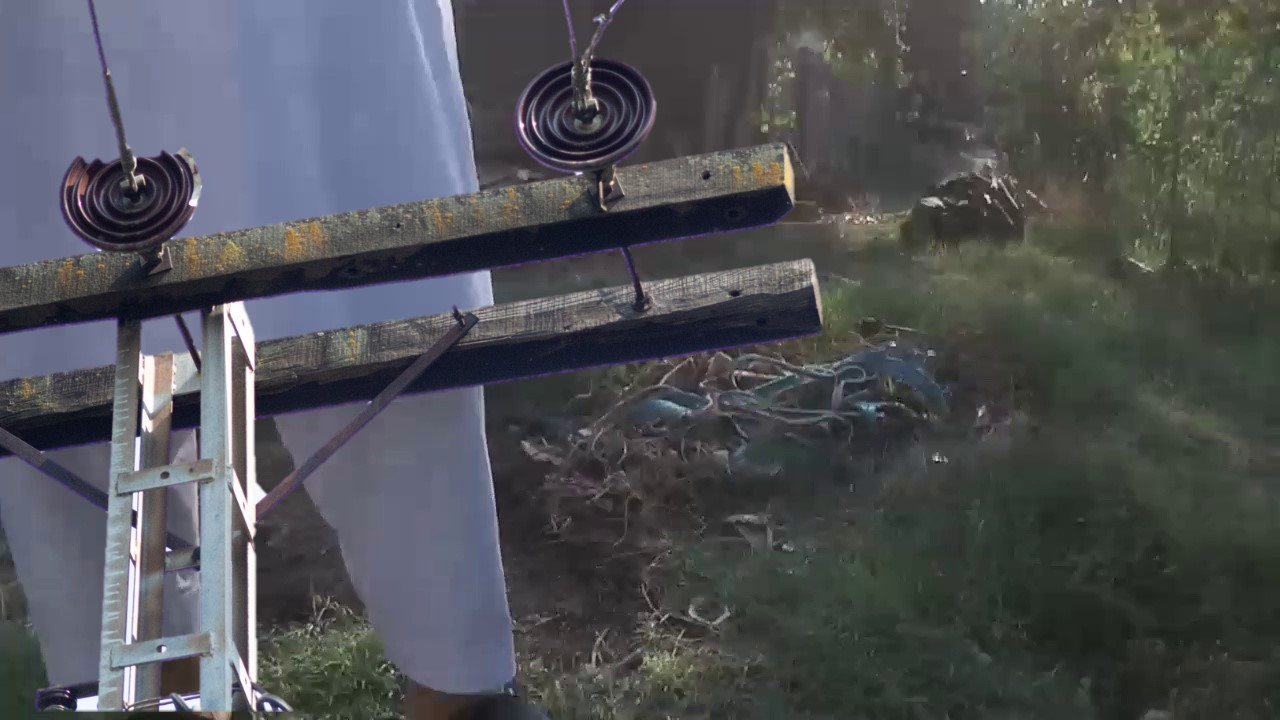defect_disc: (56, 144, 204, 249)
insulator_disc: (511, 54, 662, 173)
